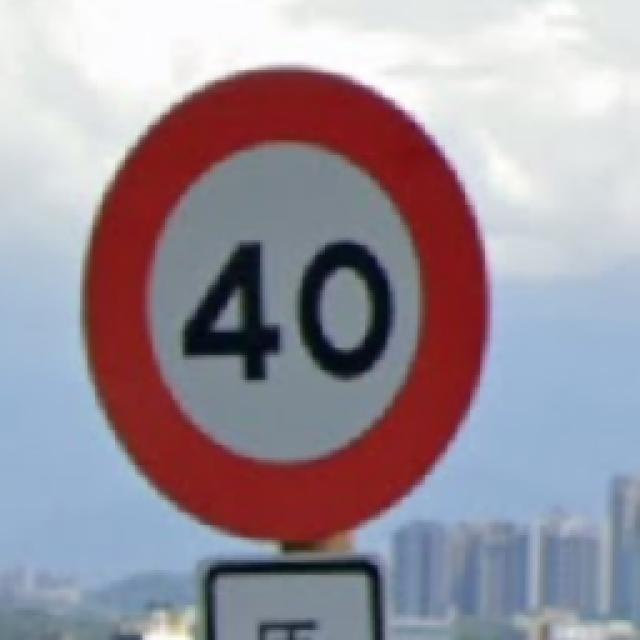Speed Limit -40-: (85, 70, 485, 538)
